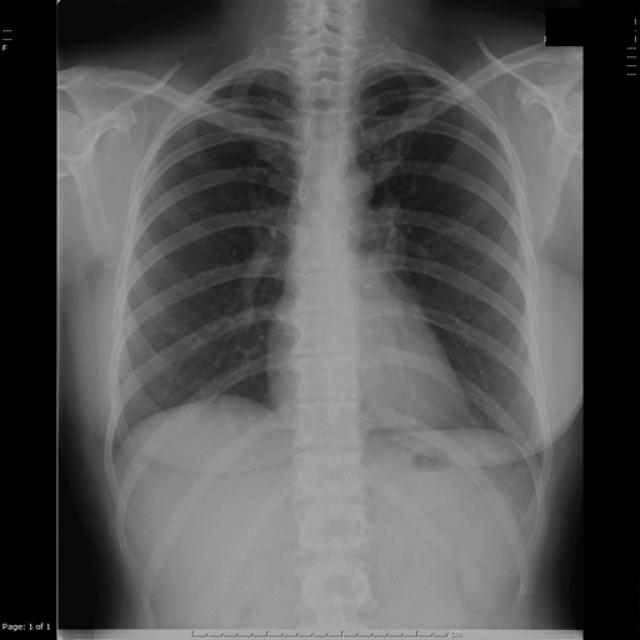tuberculosis: (52, 0, 586, 640)
